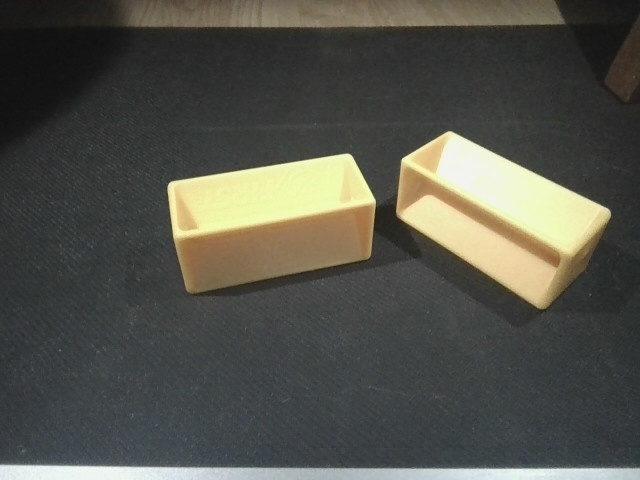YellowSample: (392, 129, 614, 313), (159, 151, 379, 297)
